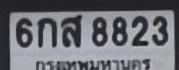2: (131, 15, 147, 45)
3: (151, 15, 167, 45)
6: (15, 17, 32, 47)
8: (111, 16, 126, 45), (91, 16, 106, 45)
A01: (37, 17, 56, 47)
A40: (60, 15, 81, 46)
BKK: (33, 57, 152, 70)
